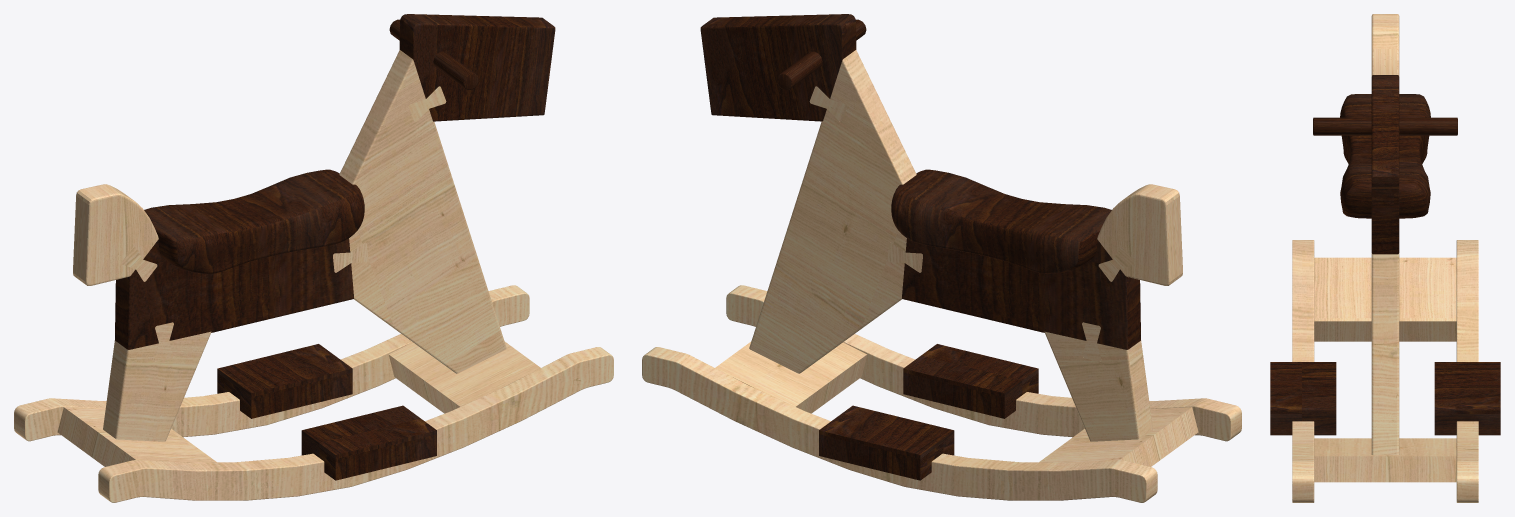
The model's file is muma20180103.DAE.
3 renders of one model, left to right at view 1: azimuth 30°, elevation 25°; view 2: azimuth 150°, elevation 25°; view 3: azimuth 270°, elevation 25°, orthographic. The views are drawn at different scales.
Parts seen in each view (by area): view 1: Line004, Rectangle003; view 2: Line004, Rectangle003; view 3: Line004, Rectangle003.
Boxes of the visible parts, x1=… form: Line004: x1=14, y1=50, x2=613, y2=502; Rectangle003: x1=115, y1=14, x2=555, y2=480; Line004: x1=642, y1=50, x2=1241, y2=502; Rectangle003: x1=700, y1=14, x2=1140, y2=480; Line004: x1=1292, y1=14, x2=1478, y2=502; Rectangle003: x1=1270, y1=75, x2=1500, y2=435.
Size of the model in its own units: 1.03 by 0.7951 by 0.4187.
2 materials, 2 textured.
